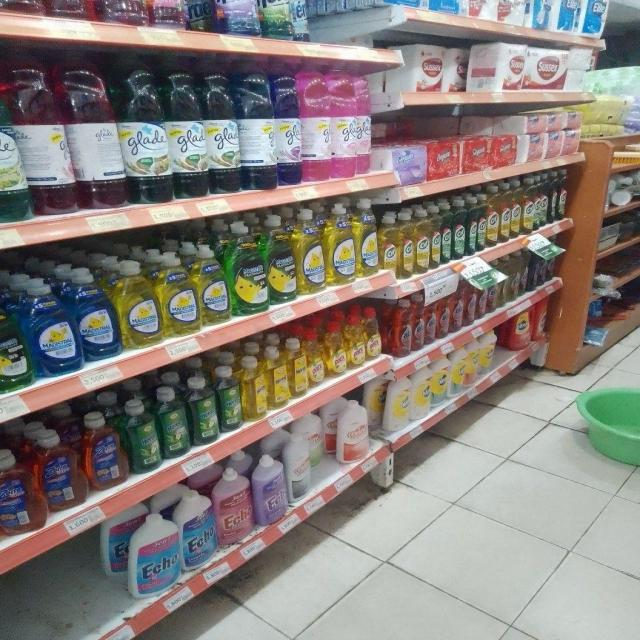ala_conc_rojo: (393, 297, 412, 357), (43, 0, 95, 19), (412, 296, 424, 352), (437, 291, 450, 339), (451, 284, 463, 332), (425, 295, 436, 346)
cif_conc_bot_amarilla: (379, 212, 397, 274), (398, 210, 414, 278), (414, 208, 430, 274), (487, 185, 499, 247), (522, 177, 534, 234), (430, 205, 440, 269), (500, 182, 510, 242), (511, 179, 521, 238)
cif_conc_botella_verde: (453, 198, 466, 260), (535, 175, 548, 230), (441, 202, 452, 264), (467, 196, 478, 255), (475, 195, 486, 254)
heroe: (218, 362, 242, 432), (242, 355, 267, 421)
magistral_con_amarillo: (119, 260, 160, 348), (160, 252, 196, 336), (196, 245, 228, 325), (325, 201, 354, 285), (296, 208, 324, 295), (355, 199, 378, 277)
magistral_con_azul: (26, 277, 77, 377), (76, 268, 118, 362)
